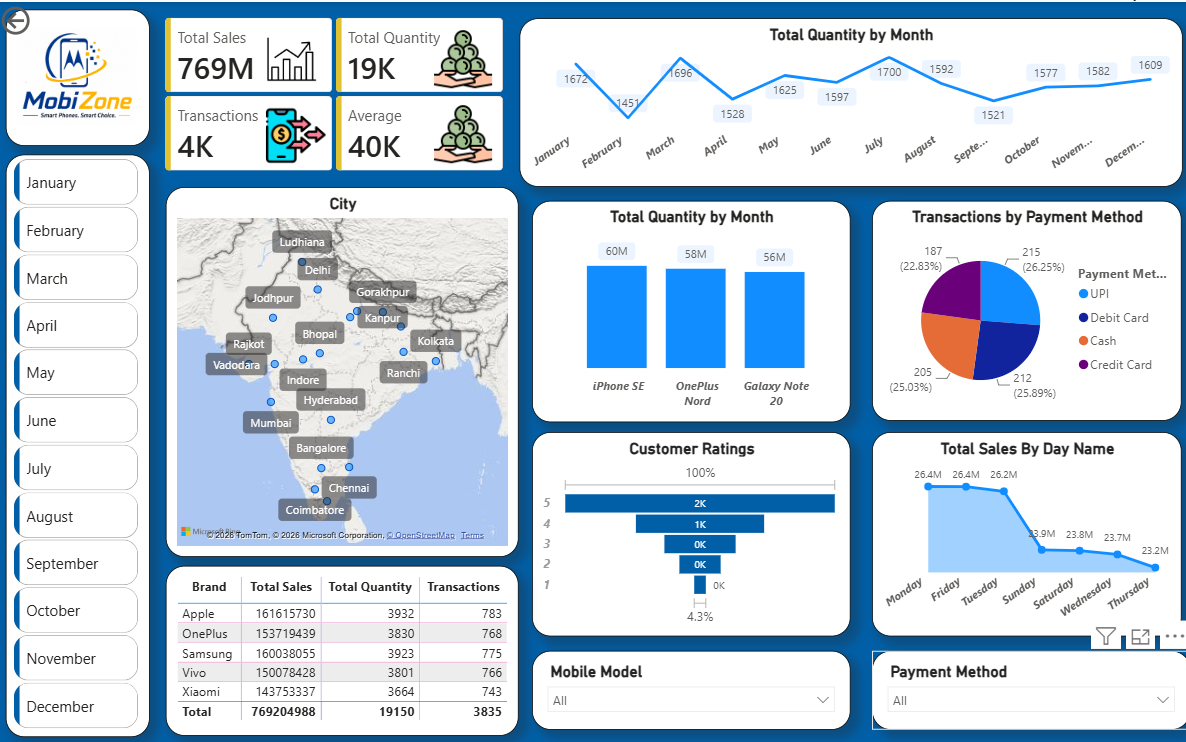

What the dashboard file says about the page in this screenshot:
{"tool":"powerbi","page":{"name":"MobiZone Sales Performance Analysis","canvas":[1280,800],"ordinal":0},"visuals":[{"type":"cardVisual","fields":{"Data":["Sales_Data.Total_Sales","Sales_Data.Total Quantity","Sales_Data.Transactions","Sales_Data.Average"]},"box":[163.3,0,396.6,199],"z":0,"group":"g1"},{"type":"image","box":[20.1,17.4,130,126],"z":0},{"type":"shape","box":[9.4,8,154.2,146.1],"z":1000},{"type":"image","box":[278.4,28.6,74.8,66.3],"z":1000,"group":"g1"},{"type":"shape","box":[9.4,163.5,154.2,624.7],"z":2000},{"type":"advancedSlicerVisual","fields":{"Values":["Sales_Data.Date.Variation.Date Hierarchy.Month"]},"box":[13.4,163.5,143.4,624.7],"z":3000},{"type":"group","id":"g1","title":"Group 1","box":[163.3,0,396.6,199],"z":4000},{"type":"image","box":[20.1,13.4,130,134],"z":5000},{"type":"image","box":[445.3,28.3,110.3,66.3],"z":5000,"group":"g1"},{"type":"image","box":[445.3,109,110.3,66.3],"z":6000,"group":"g1"},{"type":"map","fields":{"Category":["Sales_Data.City"]},"box":[181.2,198.8,378.7,396.6],"z":6000},{"type":"lineChart","title":"Total Quantity by Month","fields":{"Y":["Sum(Sales_Data.Units Sold)"],"Category":["Sales_Data.Date.Variation.Date Hierarchy.Month"]},"box":[559.9,17.8,710.8,181.1],"z":7000},{"type":"image","box":[278.6,111,83.3,64.3],"z":7000,"group":"g1"},{"type":"columnChart","title":"Total Quantity by Month","fields":{"Y":["Sales_Data.Total Sales"],"Category":["Sales_Data.Mobile Model"]},"box":[573.6,212.7,341.7,237.4],"z":8000},{"type":"pieChart","title":"Transactions by Payment Method","fields":{"Category":["Sales_Data.Payment Method"],"Y":["CountNonNull(Sales_Data.Transaction ID)"]},"box":[938.6,212.7,332.1,236],"z":9000},{"type":"funnel","title":"Customer Ratings","fields":{"Category":["Sales_Data.Customer Ratings"],"Y":["Sum(Sales_Data.Customer Ratings)"]},"box":[573.6,461.1,341.7,219.6],"z":10000},{"type":"areaChart","title":"Total Sales By Day Name","fields":{"Category":["Sales_Data.Day Name"],"Y":["Sales_Data.Total Sales"]},"box":[938.6,461.1,332.1,219.6],"z":11000},{"type":"tableEx","fields":{"Values":["Sales_Data.Brand","Sales_Data.Total Sales","Sales_Data.Total Quantity","Sales_Data.Transactions"]},"box":[181.2,605,378.7,182.5],"z":12000},{"type":"actionButton","box":[0,0,100,40],"z":13000},{"type":"slicer","fields":{"Values":["Sales_Data.Mobile Model"]},"box":[573.6,695.7,341.7,85.1],"z":14000},{"type":"slicer","fields":{"Values":["Sales_Data.Payment Method"]},"box":[938.6,695.7,341.7,85.1],"z":15001}]}

Visuals, with their boxes in screenshot pixels (x1, y1, x2, y2), scaled from the page's 1280x800 canvas onto the 1186x742 screenshot:
cardVisual - Sales_Data.Total_Sales x Sales_Data.Total Quantity: locate(151, 0, 519, 185)
image: locate(19, 16, 139, 133)
shape: locate(9, 7, 152, 143)
image: locate(258, 27, 327, 88)
shape: locate(9, 152, 152, 731)
advancedSlicerVisual - Sales_Data.Date.Variation.Date Hierarchy.Month: locate(12, 152, 145, 731)
"Group 1" group: locate(151, 0, 519, 185)
image: locate(19, 12, 139, 137)
image: locate(413, 26, 515, 88)
image: locate(413, 101, 515, 163)
map - Sales_Data.City: locate(168, 184, 519, 552)
"Total Quantity by Month" lineChart: locate(519, 17, 1177, 184)
image: locate(258, 103, 335, 163)
"Total Quantity by Month" columnChart: locate(531, 197, 848, 417)
"Transactions by Payment Method" pieChart: locate(870, 197, 1177, 416)
"Customer Ratings" funnel: locate(531, 428, 848, 631)
"Total Sales By Day Name" areaChart: locate(870, 428, 1177, 631)
tableEx - Sales_Data.Brand x Sales_Data.Total Sales: locate(168, 561, 519, 730)
actionButton: locate(0, 0, 93, 37)
slicer - Sales_Data.Mobile Model: locate(531, 645, 848, 724)
slicer - Sales_Data.Payment Method: locate(870, 645, 1185, 724)
